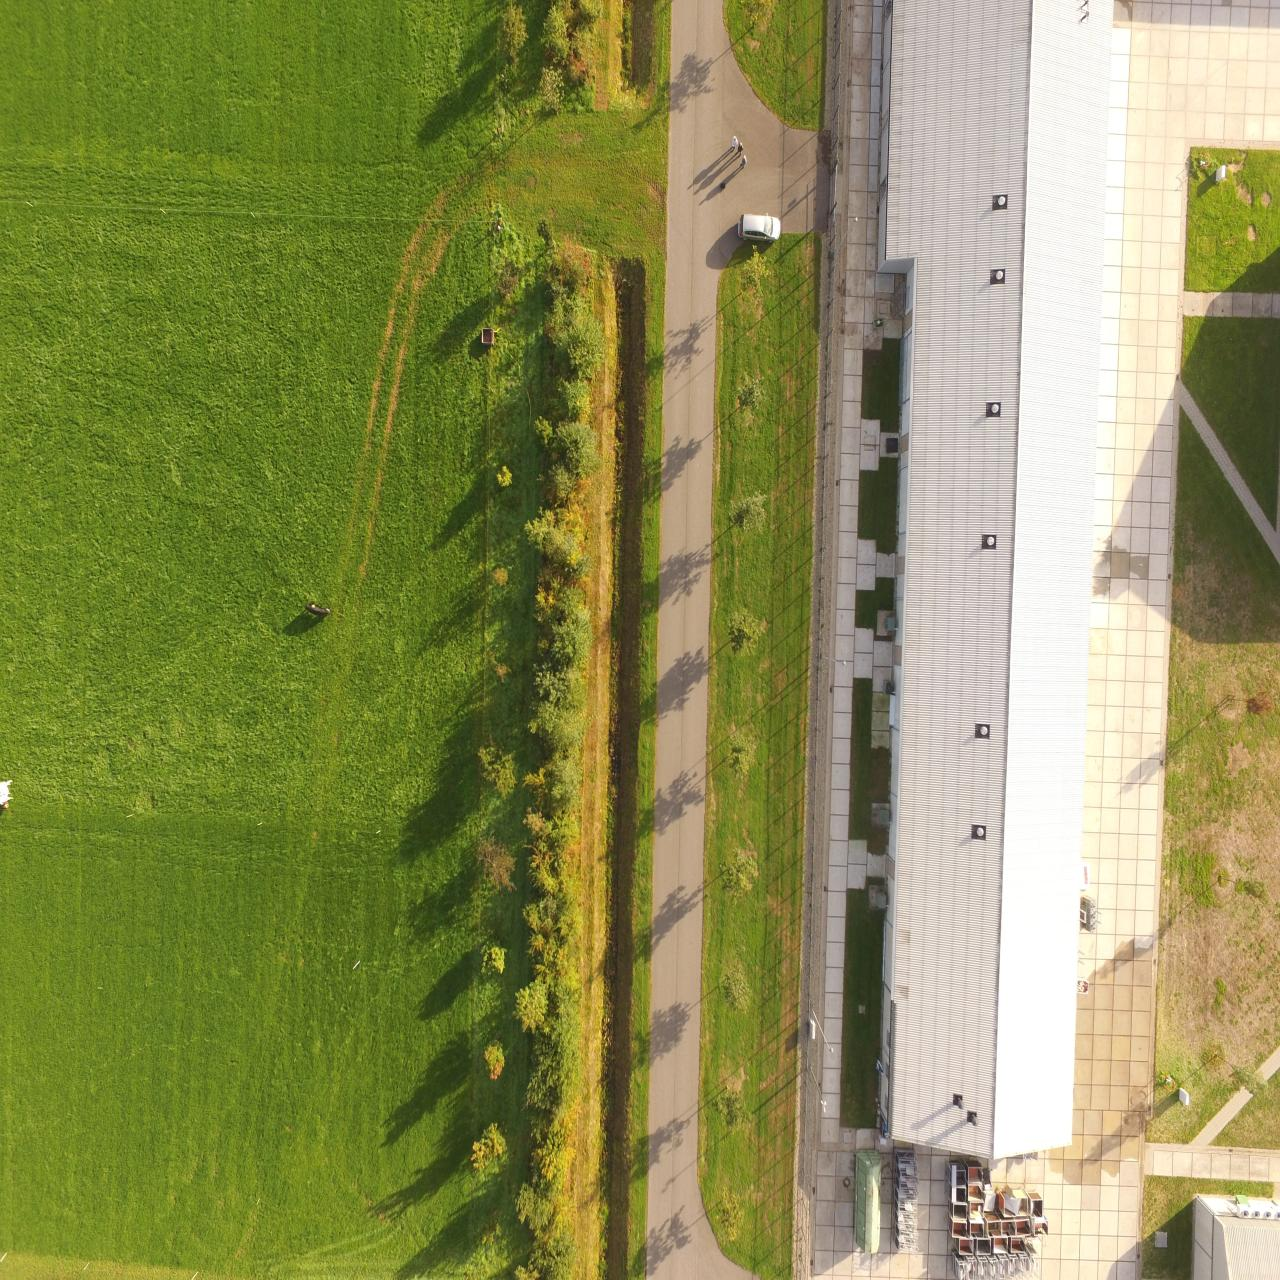cow: (0, 778, 15, 808), (305, 602, 331, 617)
